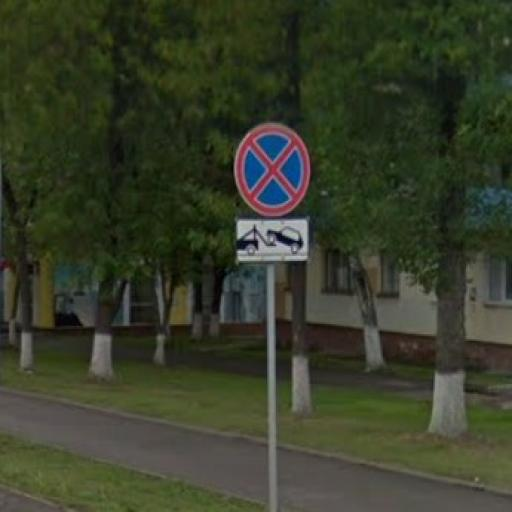traffic_sign: (233, 123, 316, 221)
